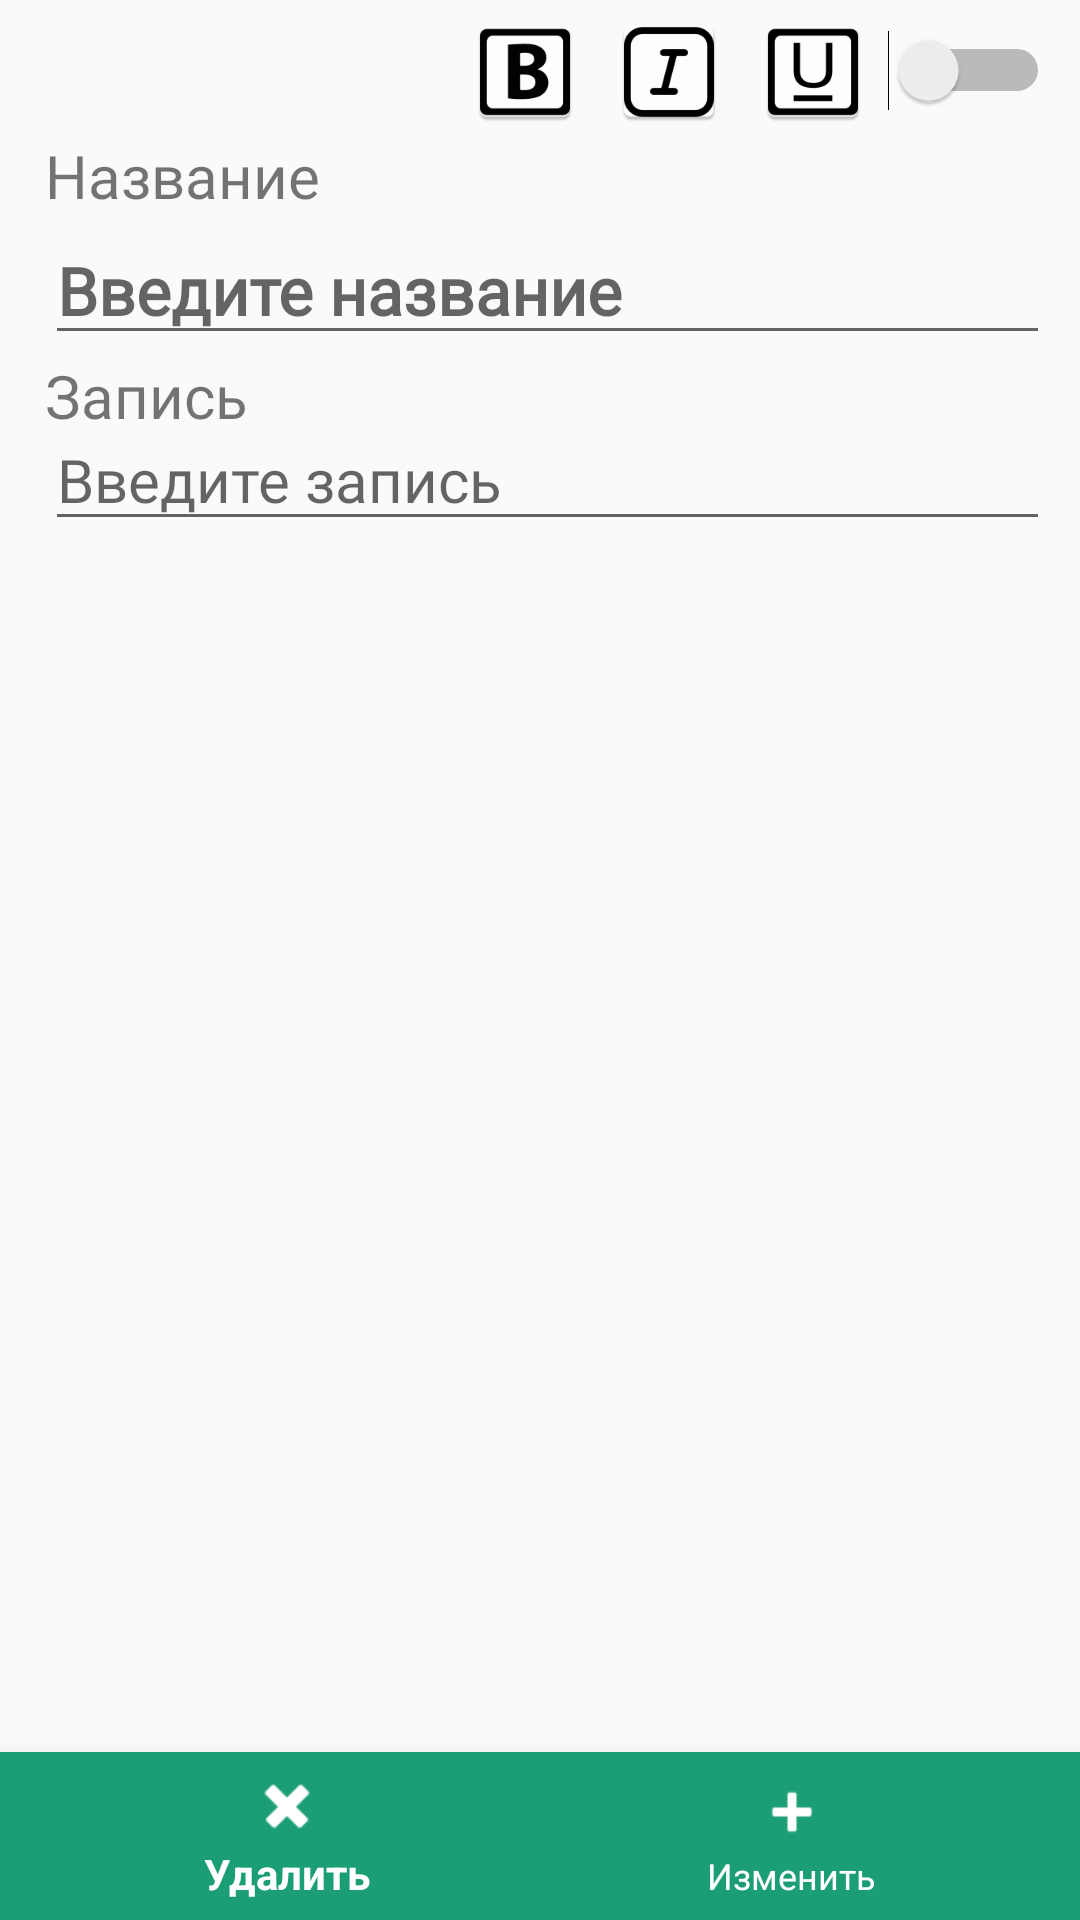

Point at icon controls on the screen. Image size 1080×1920, points as (x=x, y=y).
italic: (x=669, y=73)
underline: (x=813, y=74)
